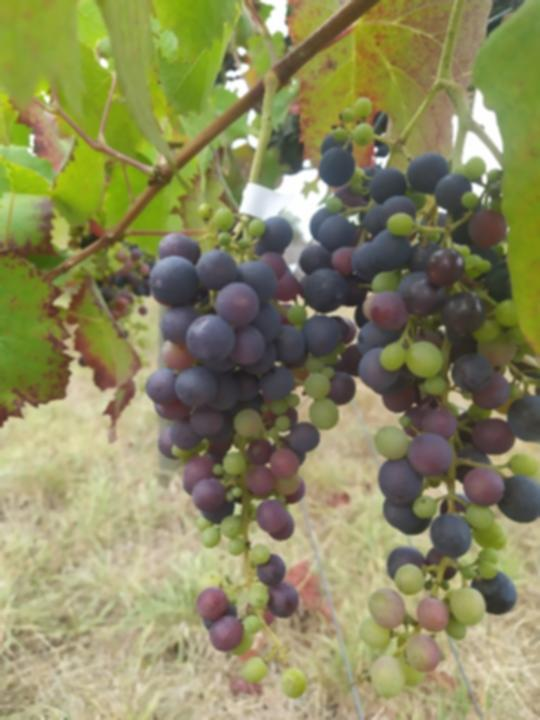grape: (296, 93, 540, 703), (142, 201, 359, 702)
